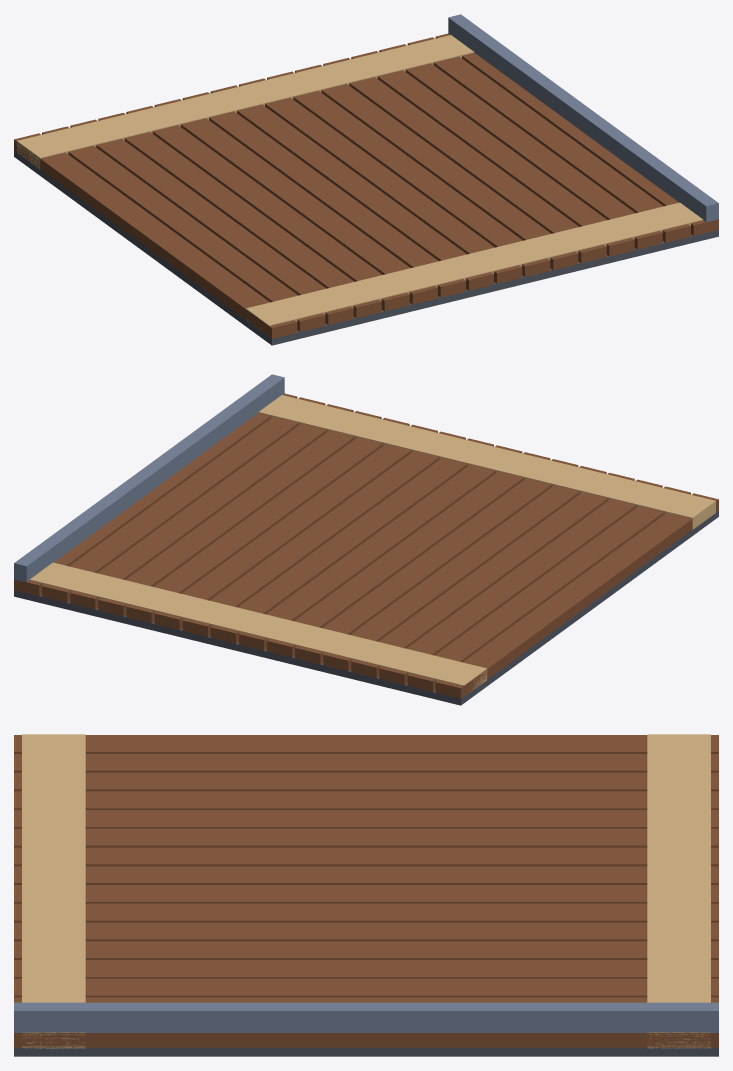
Rendered from SM_Harbor_Jetty.fbx.
The picture shows the model from 3 angles, top to bottom: view 1: azimuth 30°, elevation 25°; view 2: azimuth 150°, elevation 25°; view 3: azimuth 270°, elevation 25°; orthographic projection. The views are drawn at different scales.
Parts seen in each view (by area): view 1: SM_Harbor_Jetty; view 2: SM_Harbor_Jetty; view 3: SM_Harbor_Jetty.
Part boxes in pixels (box(x1,y1,x2,y2)): SM_Harbor_Jetty: box(14, 14, 718, 345); SM_Harbor_Jetty: box(14, 374, 718, 705); SM_Harbor_Jetty: box(14, 734, 718, 1056).
Size of the model in its own units: 700 by 50 by 700.
